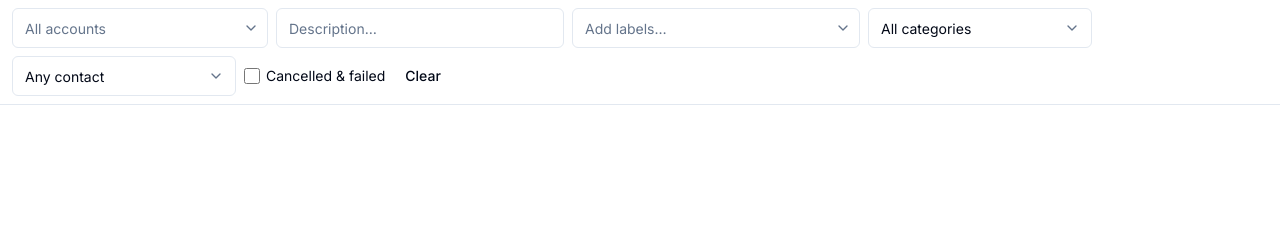
Test: TransactionFilterBar › renders a contact select with an "Any contact" option plus the provided contacts
Click the dropdown named "contact" at [124, 76], box [12, 56, 236, 96]
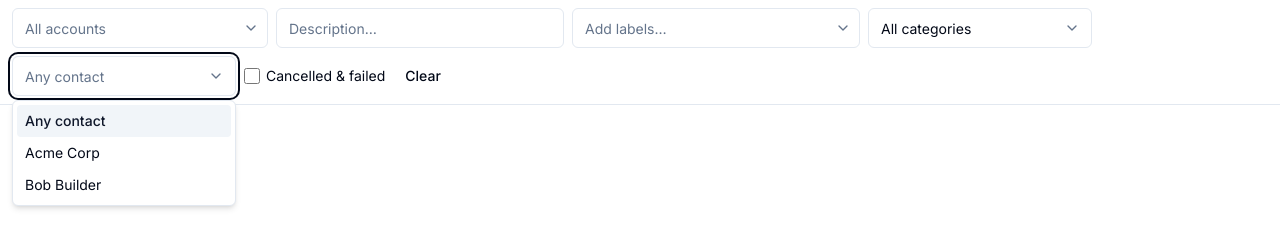
Expected: the option "Any contact" is shown, [17, 105, 231, 137]
Expected: the option "Acme Corp" is shown, [25, 144, 100, 161]
Expected: the option "Bob Builder" is shown, [25, 176, 101, 193]
